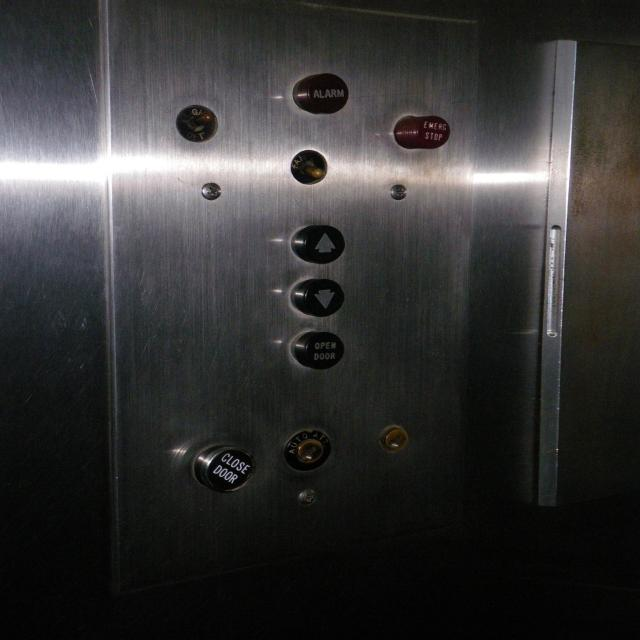down: (290, 278, 344, 317)
keyhole: (281, 429, 331, 472), (376, 422, 410, 454)
switch: (175, 103, 218, 143), (289, 147, 328, 186)
text: (294, 71, 349, 117)
text_close door: (192, 445, 254, 492)
text_open door: (290, 331, 344, 370)
text_stop: (392, 114, 450, 150)
up: (290, 224, 346, 264)
